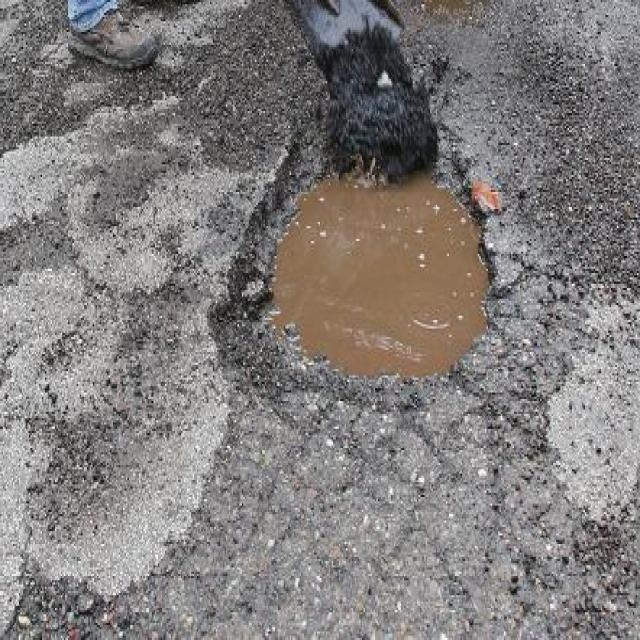buraco: (207, 106, 504, 426), (217, 110, 494, 408)
